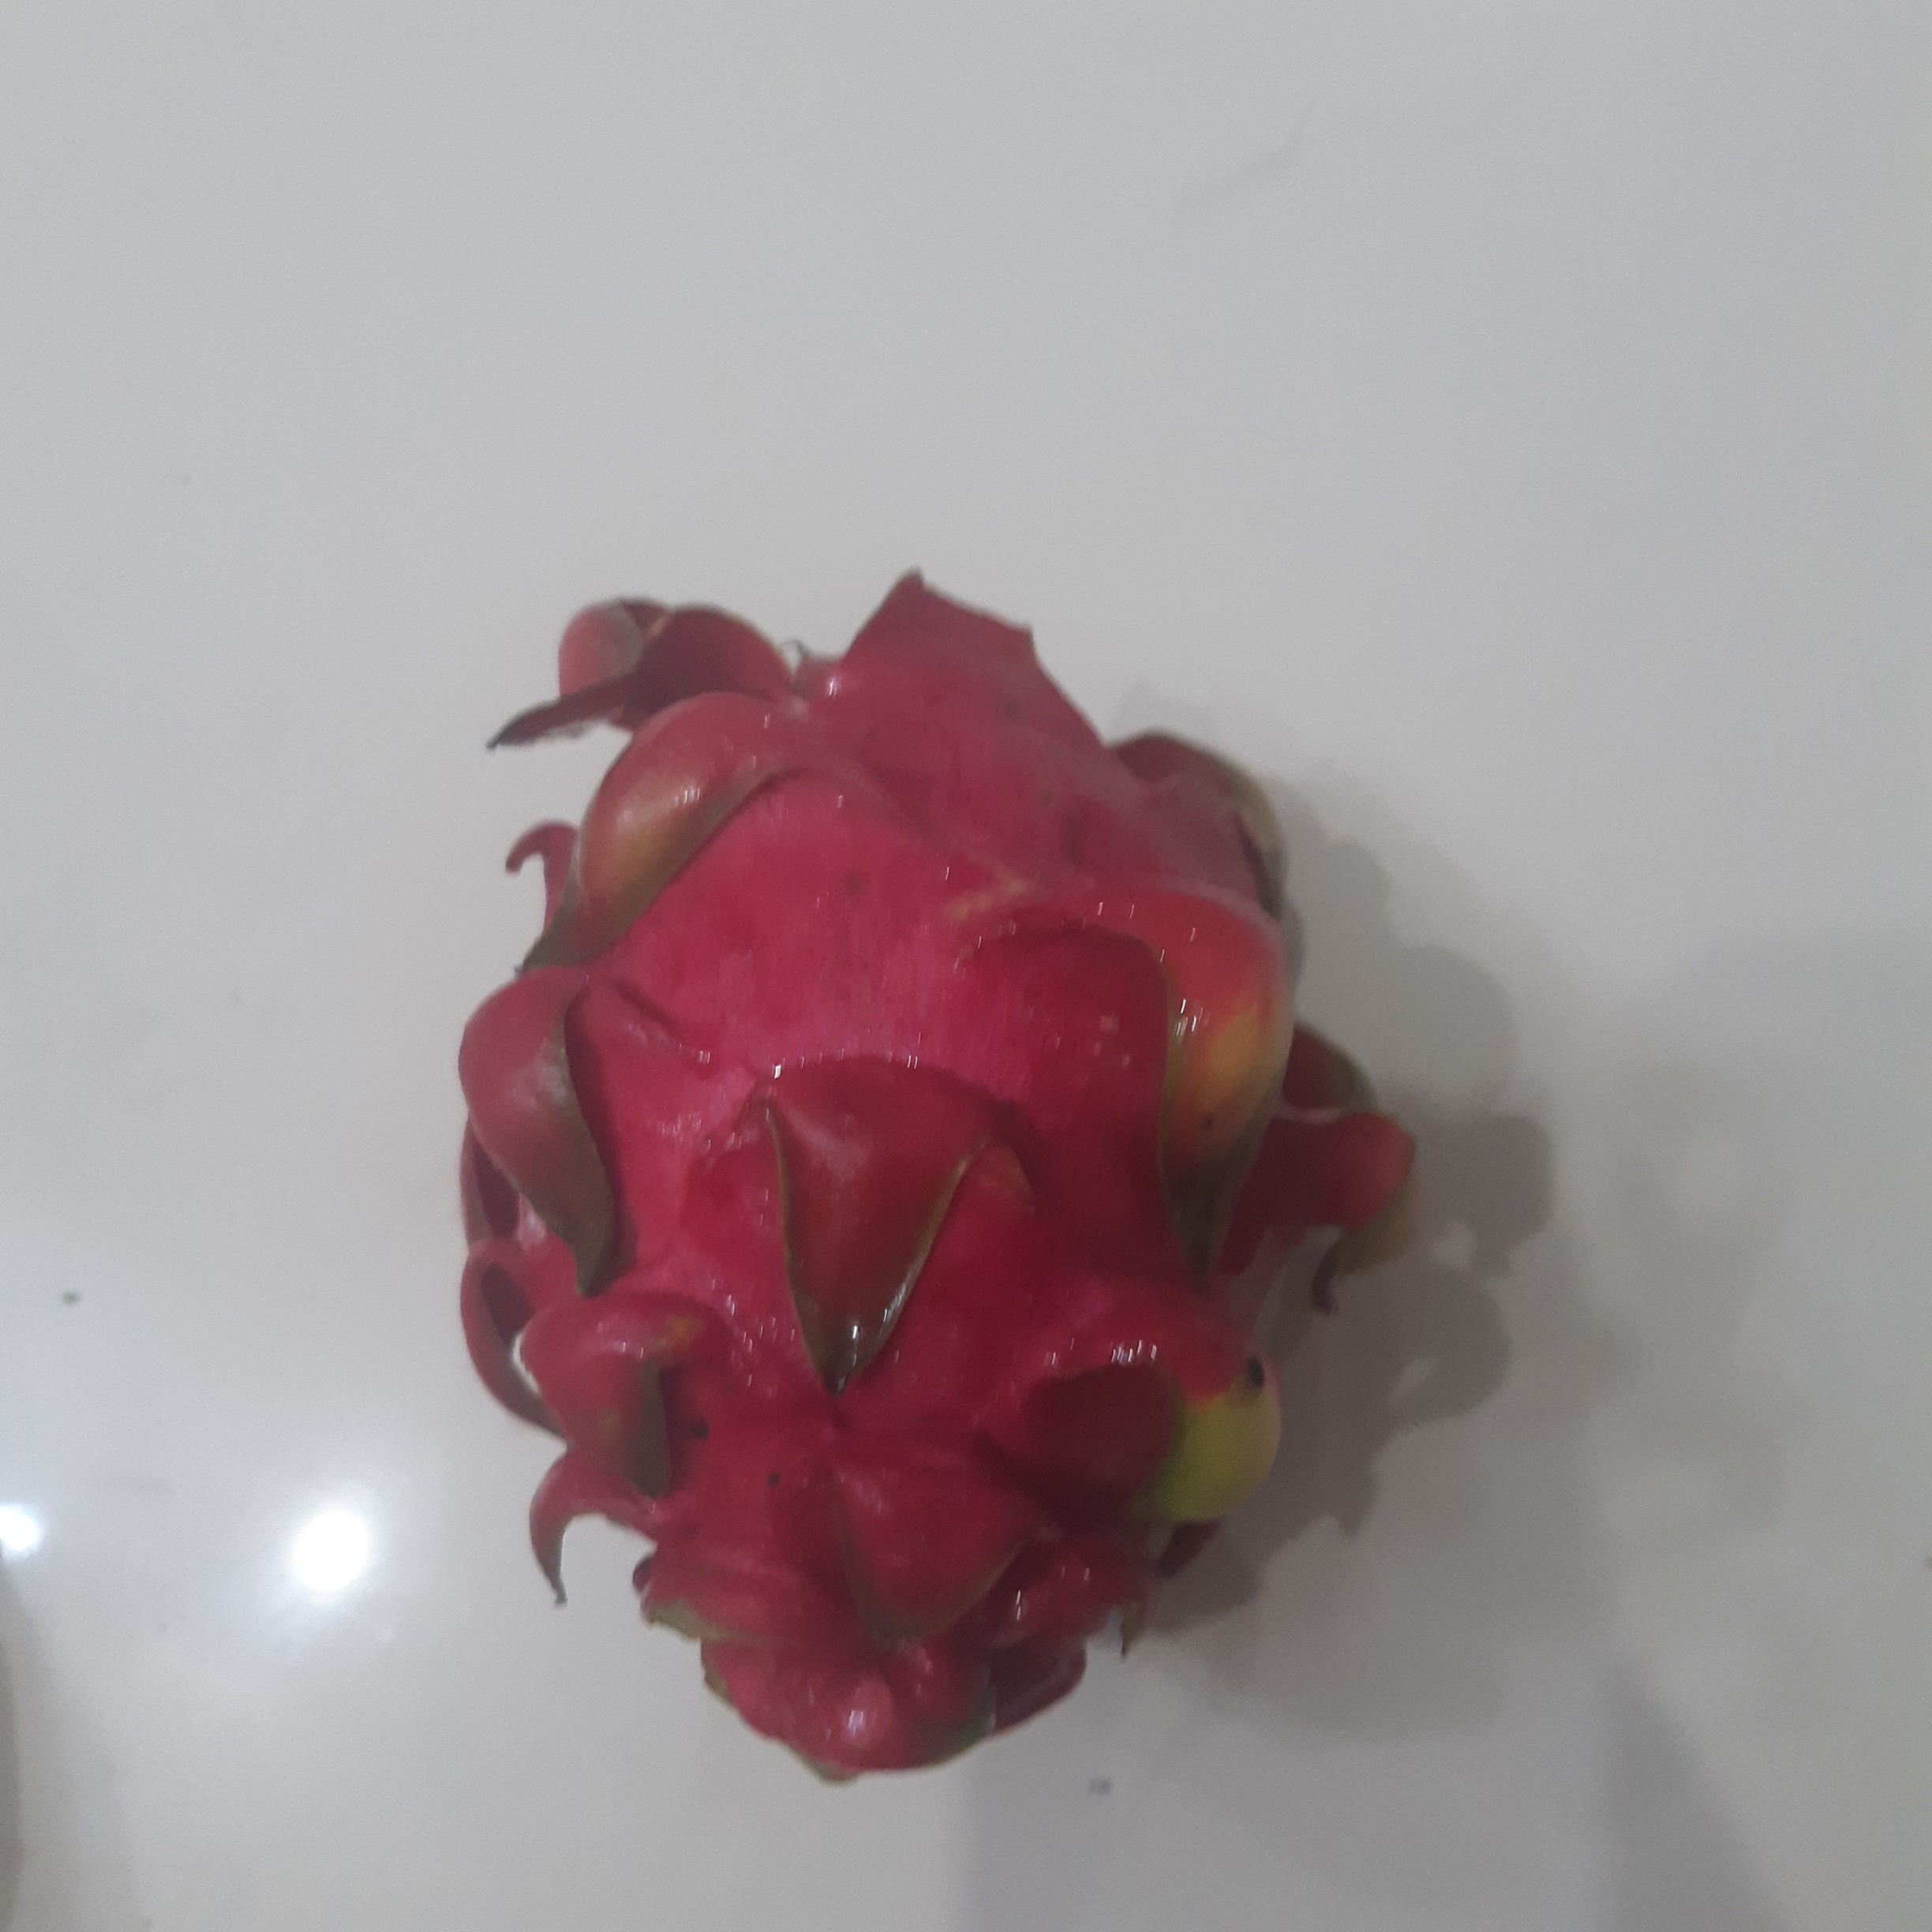Thanh long: (458, 623, 1345, 1762)
